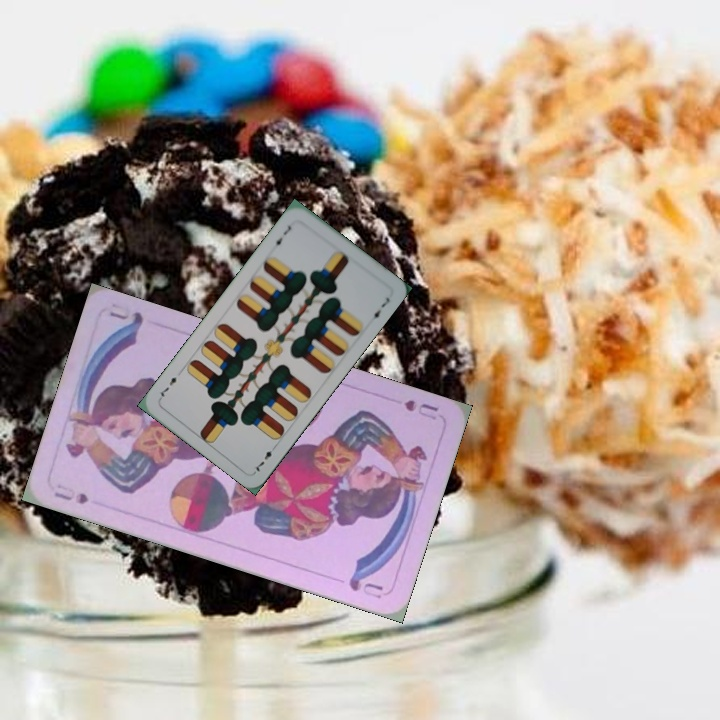E7: (251, 440, 278, 475), (268, 221, 294, 251)
SU: (400, 395, 441, 423), (50, 480, 91, 507)
